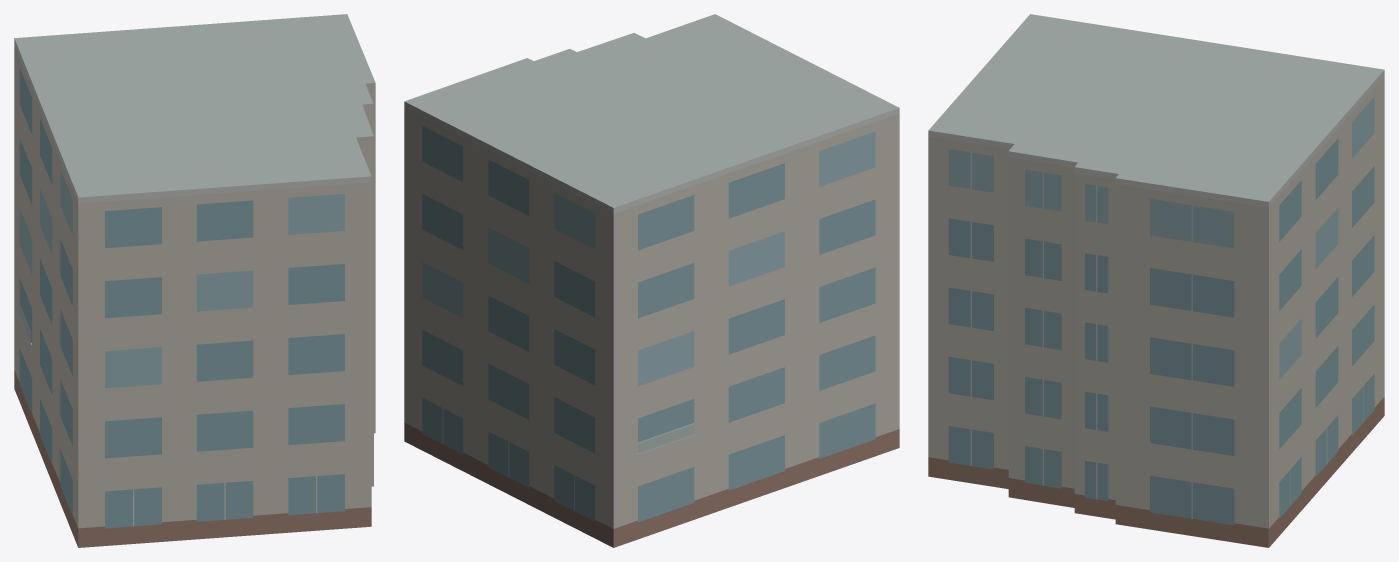
The model's file is survey-upis-32553254.glb.
3 renders of one model, left to right at view 1: azimuth 30°, elevation 25°; view 2: azimuth 150°, elevation 25°; view 3: azimuth 270°, elevation 25°, orthographic. The views are drawn at different scales.
Visible parts, largest first — view 1: survey-upis-32553254.tmp; view 2: survey-upis-32553254.tmp; view 3: survey-upis-32553254.tmp.
Part boxes in pixels (<box>): survey-upis-32553254.tmp: <box>14,14,375,547</box>; survey-upis-32553254.tmp: <box>404,14,899,547</box>; survey-upis-32553254.tmp: <box>928,14,1384,547</box>.
Size of the model in its own units: 16.78 by 14.4 by 17.22.
